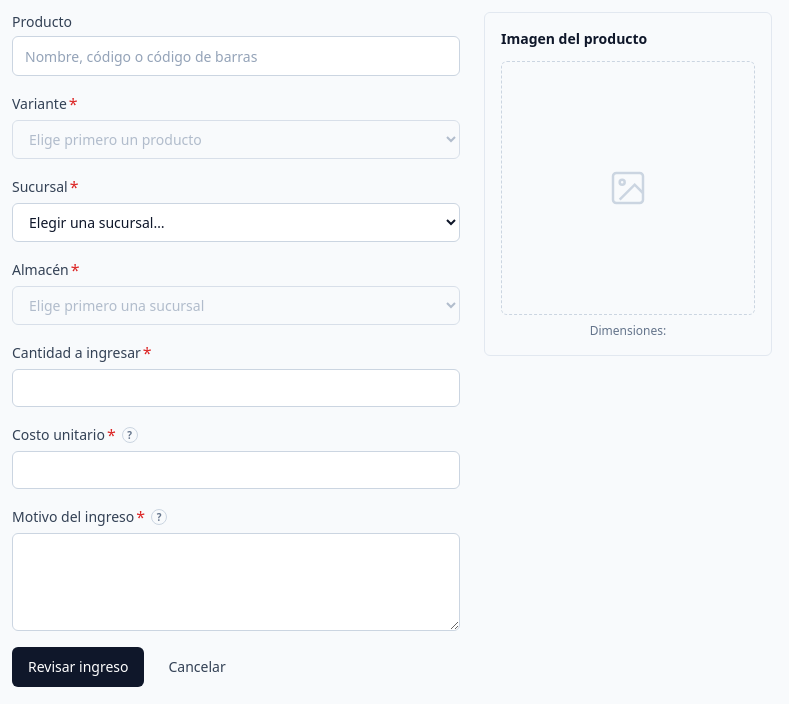
AddStockForm › shows an empty-result message
Type "zzz" into the search field named "Buscar producto".
click(236, 56); type("zzz")  # box x1=12 y1=36 x2=460 y2=76
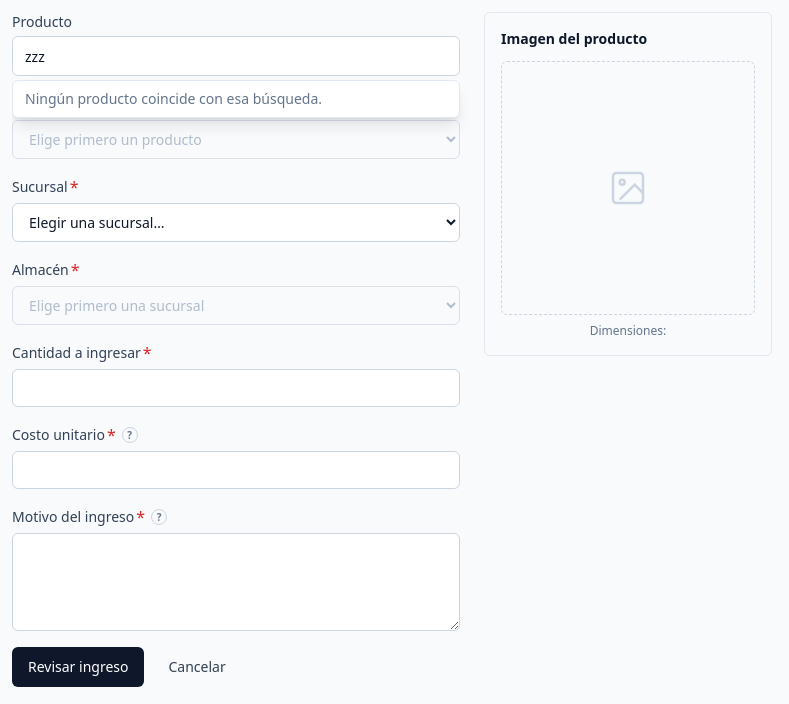
Expected: the text "Ningún producto coincide con esa búsqueda." is shown, x1=25 y1=89 x2=322 y2=108
